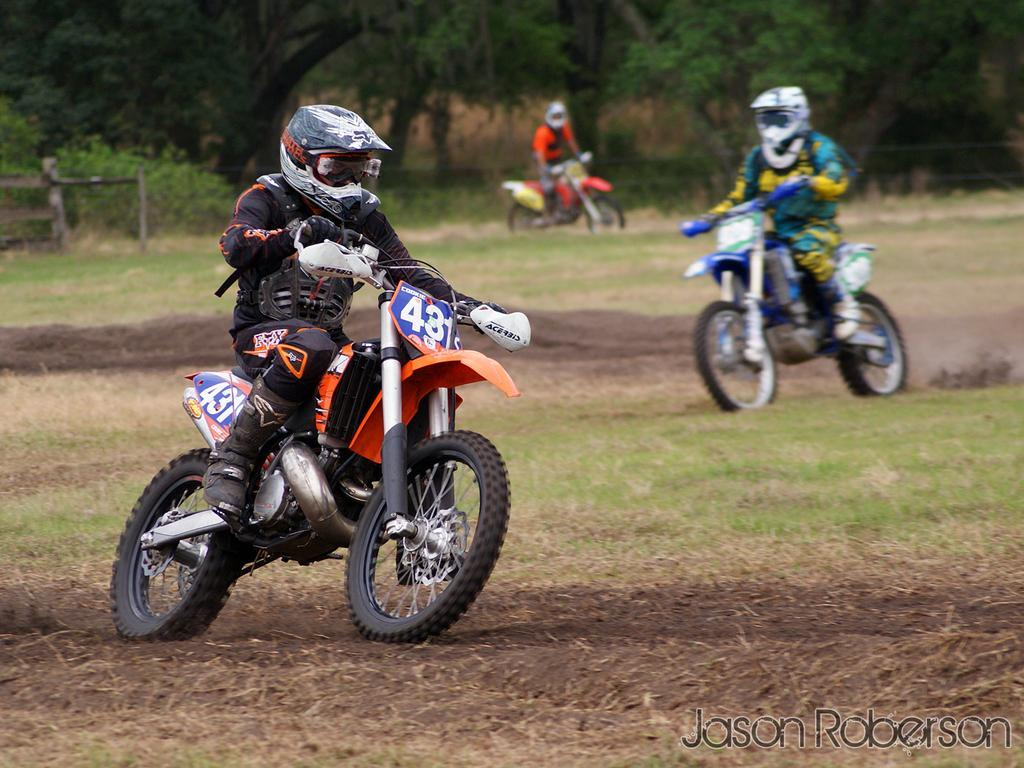helmet: (279, 103, 394, 228), (748, 84, 813, 151), (543, 100, 569, 133)
